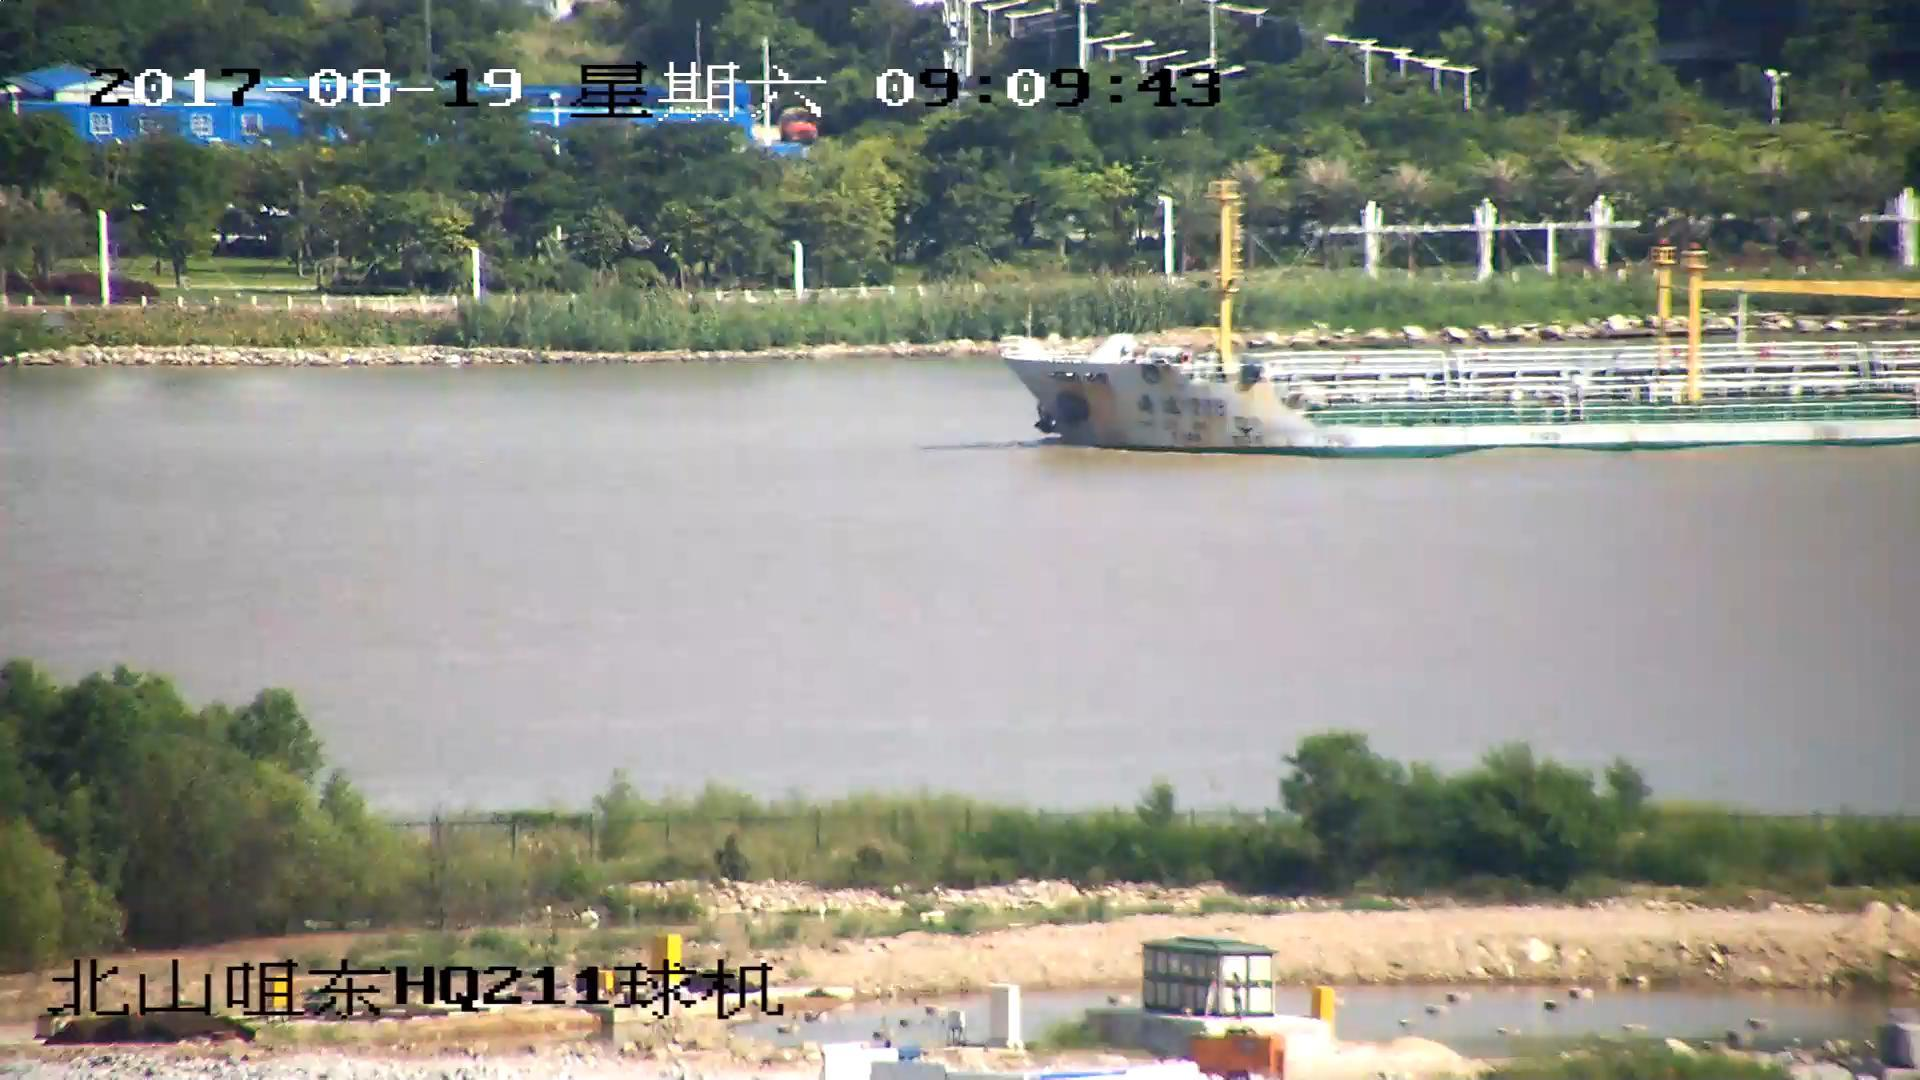Ship: (1000, 204, 1920, 448)
